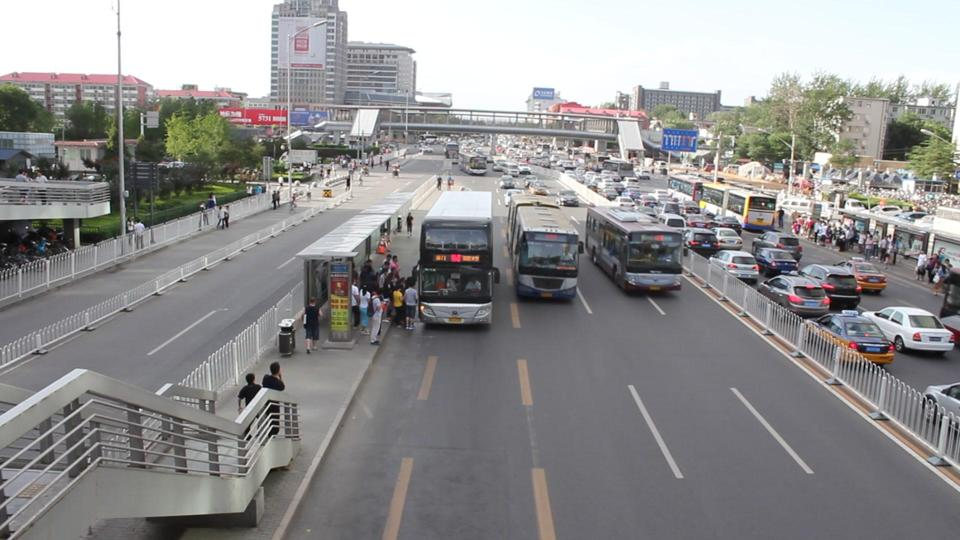Bus: (420, 191, 493, 323), (586, 206, 682, 292), (508, 192, 574, 300)
Car: (557, 186, 576, 207), (499, 175, 515, 189), (529, 182, 545, 195), (522, 174, 535, 186)
Minivan: (503, 163, 516, 177)
